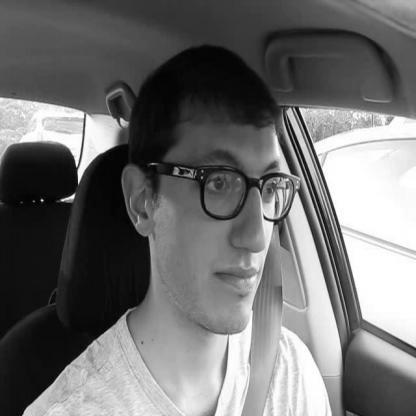seatbelt: (87, 28, 307, 416)
